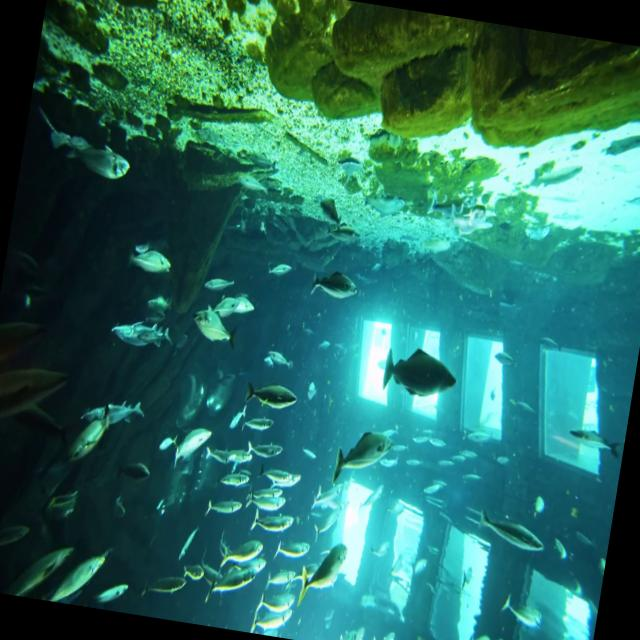fish: (0, 348, 83, 451), (378, 338, 465, 408), (5, 530, 80, 604), (332, 414, 397, 495), (476, 499, 550, 566), (43, 542, 112, 610), (70, 381, 144, 442), (298, 256, 366, 321), (54, 141, 135, 195), (296, 528, 352, 604), (205, 550, 271, 606), (562, 413, 628, 465), (479, 588, 546, 636), (186, 302, 245, 356), (242, 373, 304, 424), (108, 314, 174, 358), (122, 238, 182, 286), (246, 501, 302, 547), (212, 530, 270, 574), (169, 417, 215, 471), (136, 568, 189, 612), (256, 240, 300, 292), (253, 342, 300, 386), (114, 450, 158, 497), (214, 288, 265, 328), (272, 534, 316, 578), (90, 572, 136, 614), (262, 462, 306, 502), (244, 434, 283, 471)
